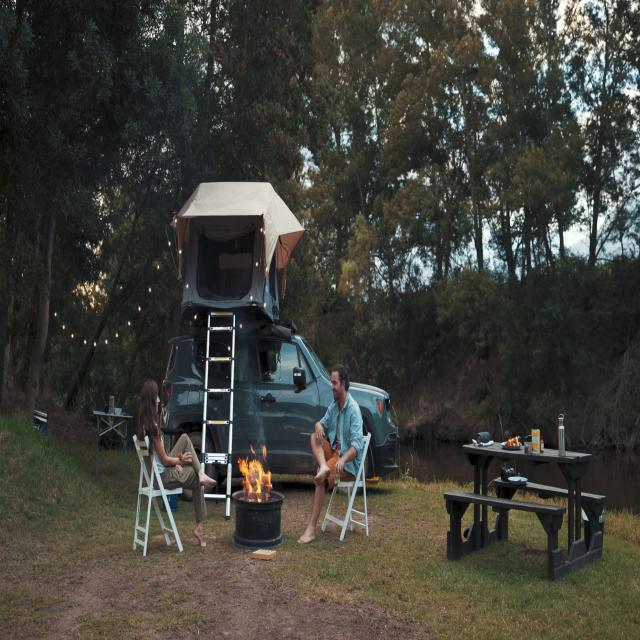Fire: (236, 443, 276, 501)
